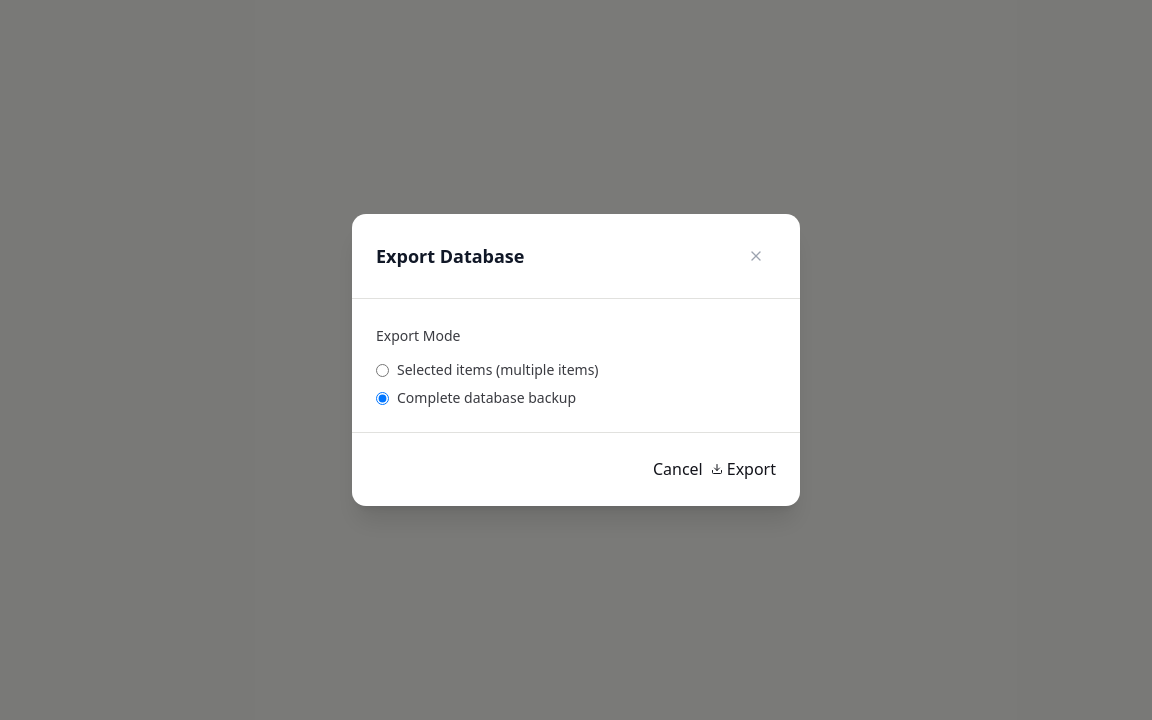
Test: ExportModal › Database Export › should export complete database
Click the button "Export" at {"x": 743, "y": 469}, box [711,457,776,482]
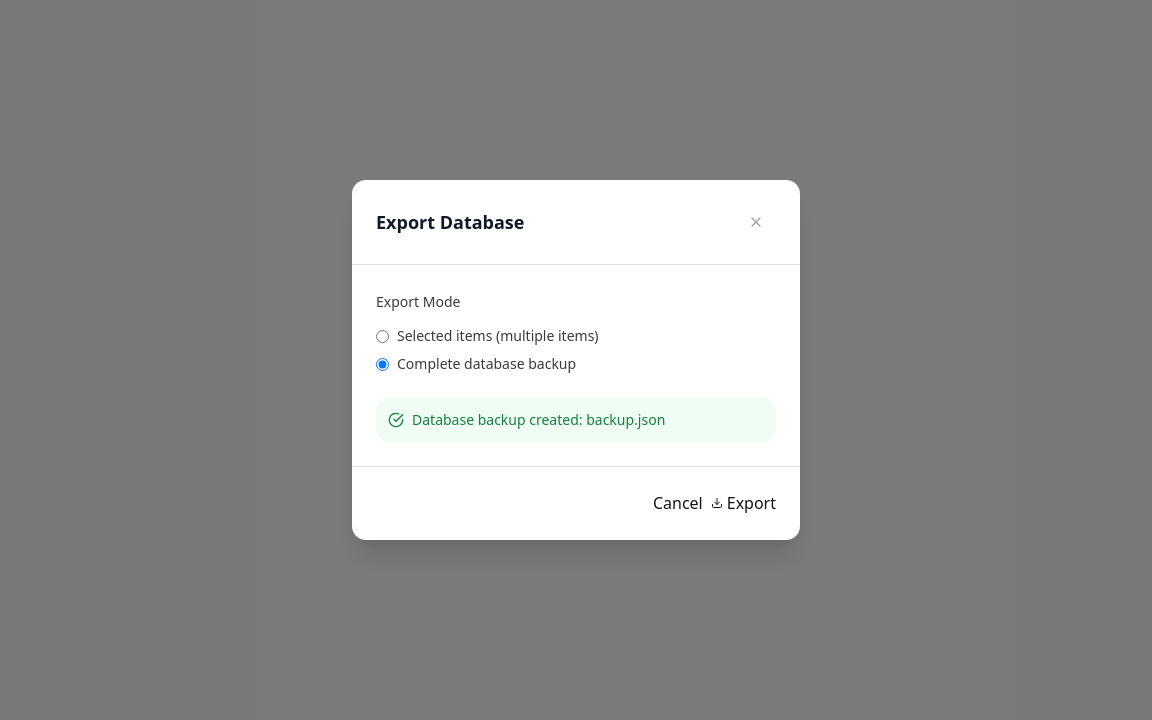
Check: the text "Database backup created: backup.json" is shown, box [412,410,665,430]
